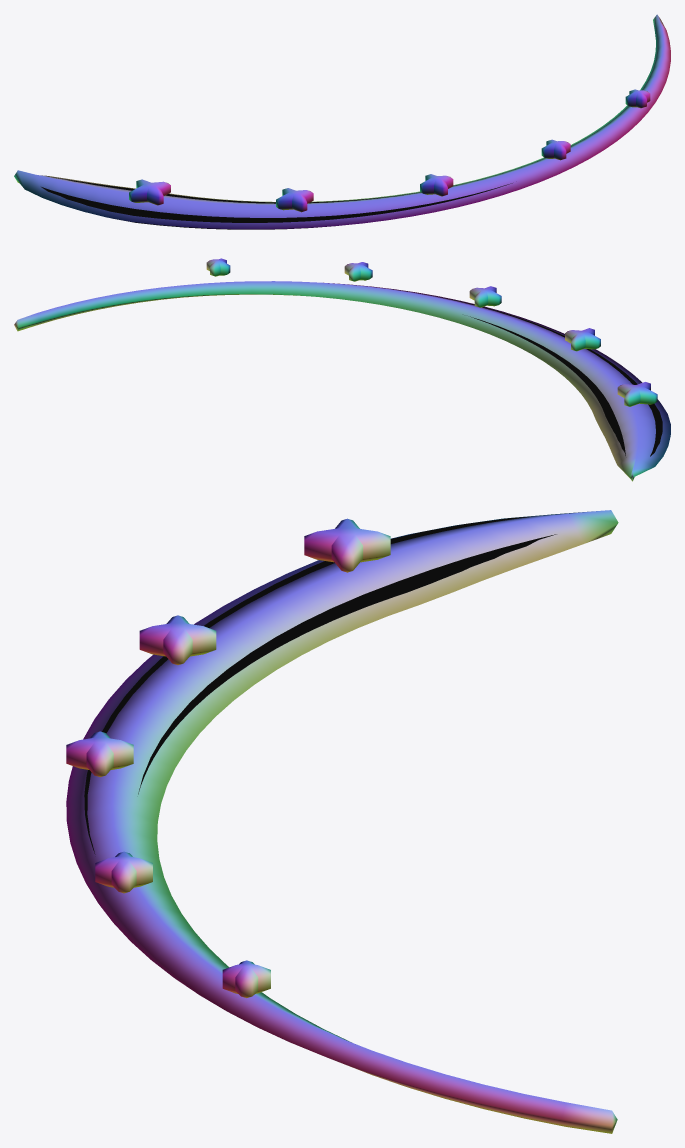
Rendered from SM_FX_SlashArc_Mage.fbx.
The picture shows the model from 3 angles, top to bottom: view 1: azimuth 30°, elevation 25°; view 2: azimuth 150°, elevation 25°; view 3: azimuth 270°, elevation 25°; orthographic projection. The views are drawn at different scales.
Parts seen in each view (by area): view 1: SM_FX_SlashArc_Mage; view 2: SM_FX_SlashArc_Mage; view 3: SM_FX_SlashArc_Mage.
Boxes of the visible parts, <box> form: SM_FX_SlashArc_Mage: <box>14,14,670,229</box>; SM_FX_SlashArc_Mage: <box>14,258,670,481</box>; SM_FX_SlashArc_Mage: <box>66,510,618,1133</box>.
Bounding box in the file's own units: 1.82 × 0.1001 × 0.6953.
